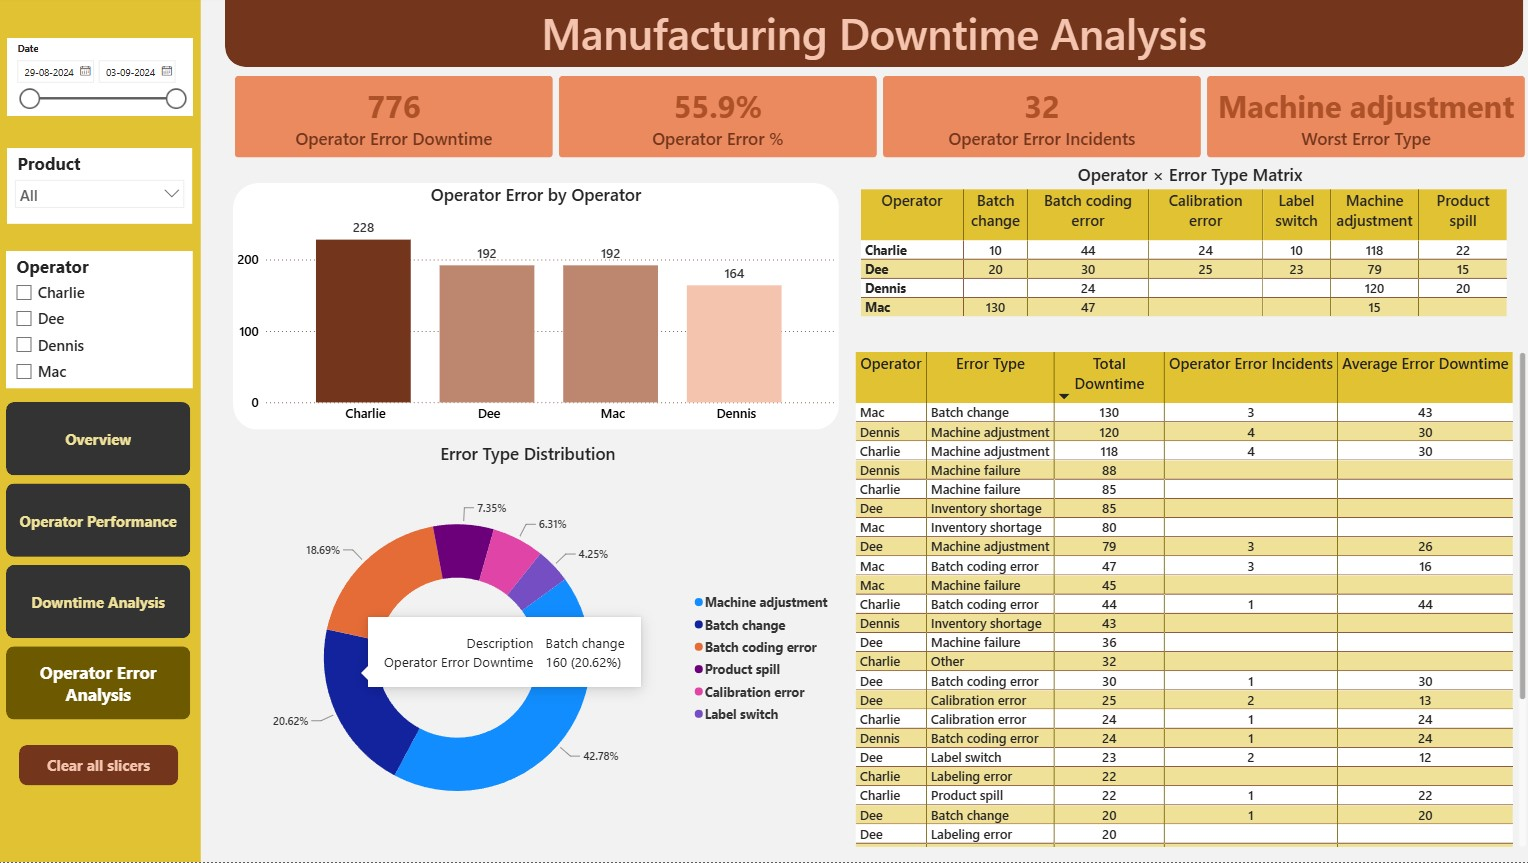

What the dashboard file says about the page in this screenshot:
{"tool":"powerbi","page":{"name":"Operator Error Analysis","canvas":[1920,1080],"ordinal":3},"visuals":[{"type":"shape","box":[284.6,0,1626.7,83.8],"z":0,"group":"g1"},{"type":"shape","box":[293.8,229.6,759.5,309.2],"z":0,"group":"g2"},{"type":"textbox","box":[284.6,0,1626.7,83.8],"z":1000,"group":"g1"},{"type":"cardVisual","fields":{"Data":[" Measures.Operator Error Downtime"," Measures.Operator Error %"," Measures.Operator Error Incidents"," Measures.Worst Error Type"]},"box":[296.6,95,1617.3,102],"z":1000},{"type":"clusteredColumnChart","title":"Operator Error by Operator","fields":{"Y":[" Measures.Operator Error Downtime"],"Category":["Line productivity.Operator"]},"box":[293.8,229.3,759.5,309.9],"z":2000,"group":"g2"},{"type":"donutChart","title":"Error Type Distribution","fields":{"Category":["Downtime factors.Description"],"Y":[" Measures.Operator Error Downtime"]},"box":[274.3,553.7,778.9,512.3],"z":3000},{"type":"pivotTable","title":"Operator × Error Type Matrix","fields":{"Rows":["Line productivity.Operator"],"Columns":["Downtime factors.Description"],"Values":[" Measures.Operator Error Downtime"]},"box":[1060.9,204.4,844.9,209.6],"z":4000},{"type":"tableEx","fields":{"Values":["Line productivity.Operator","Downtime factors.Description"," Measures.Total Downtime"," Measures.Operator Error Incidents"," Measures.Average Error Downtime"]},"box":[1053.4,436.3,860.5,630.4],"z":5000},{"type":"shape","box":[0,0,254,1080.7],"z":6000},{"type":"slicer","fields":{"Values":["Line productivity.Date"]},"box":[11.2,47.7,233,96.8],"z":7000},{"type":"slicer","fields":{"Values":["Line productivity.Product"]},"box":[11.2,185.3,231.6,95.4],"z":8000},{"type":"slicer","fields":{"Values":["Line productivity.Operator"]},"box":[10.6,313.9,234.1,171.6],"z":9000},{"type":"pageNavigator","box":[10.6,504.1,231.4,399],"z":10000},{"type":"group","id":"g1","title":"Group 1","box":[284.6,0,1626.7,83.8],"z":11000},{"type":"actionButton","box":[26.6,933.7,199.5,50.5],"z":12000},{"type":"group","id":"g2","title":"Group 2","box":[293.8,229.3,759.5,309.9],"z":12001}]}

Visuals, with their boxes in screenshot pixels (x1, y1, x2, y2), scaled from the page's 1920x1080 canvas onto the 1528x863 screenshot:
shape: box(226, 0, 1521, 67)
shape: box(234, 183, 838, 431)
textbox: box(226, 0, 1521, 67)
cardVisual -  Measures.Operator Error Downtime x  Measures.Operator Error %: box(236, 76, 1523, 157)
"Operator Error by Operator" clusteredColumnChart: box(234, 183, 838, 431)
"Error Type Distribution" donutChart: box(218, 442, 838, 852)
"Operator × Error Type Matrix" pivotTable: box(844, 163, 1517, 331)
tableEx - Line productivity.Operator x Downtime factors.Description: box(838, 349, 1523, 852)
shape: box(0, 0, 202, 862)
slicer - Line productivity.Date: box(9, 38, 194, 115)
slicer - Line productivity.Product: box(9, 148, 193, 224)
slicer - Line productivity.Operator: box(8, 251, 195, 388)
pageNavigator: box(8, 403, 193, 722)
"Group 1" group: box(226, 0, 1521, 67)
actionButton: box(21, 746, 180, 786)
"Group 2" group: box(234, 183, 838, 431)
